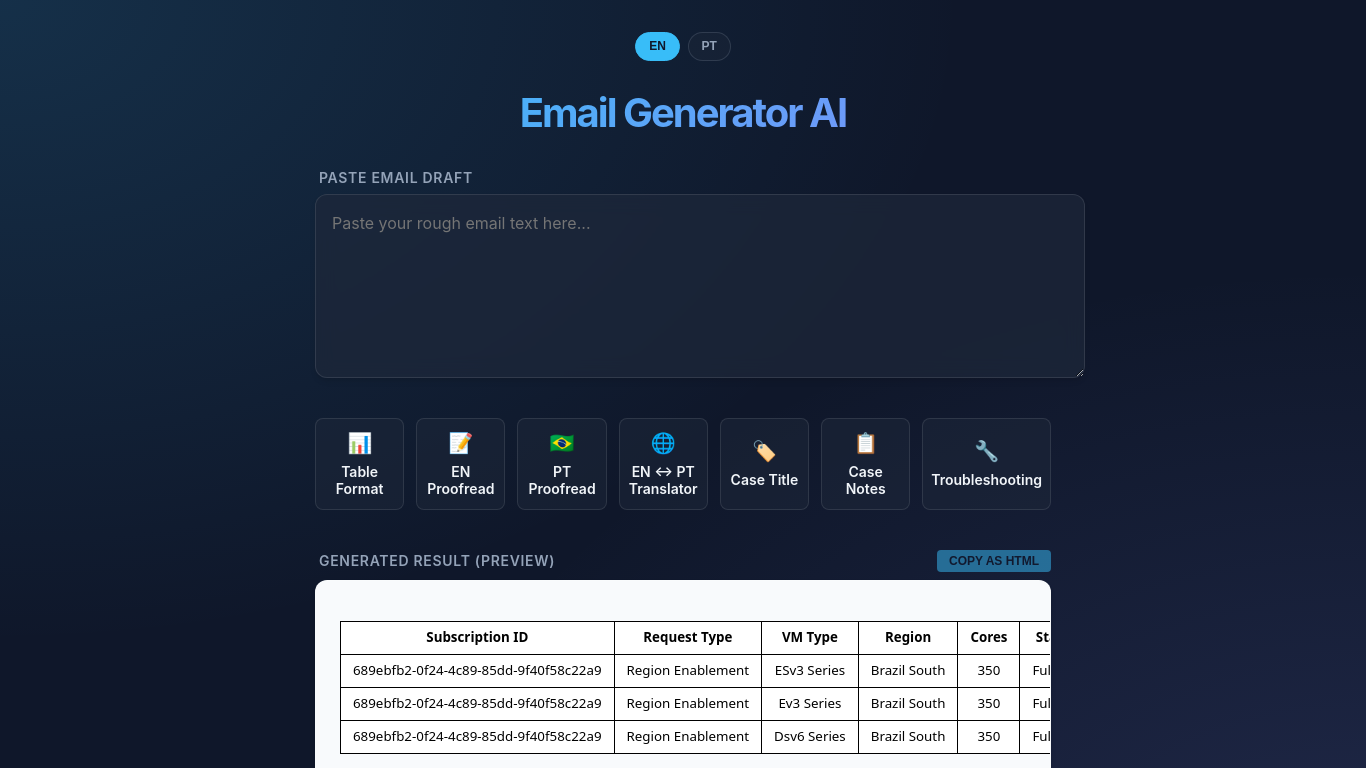
Test: App Component › switches to Portuguese when PT button is clicked
Click the button with aria-label "Trocar para Português" at (709, 46), box [688,32,731,61]
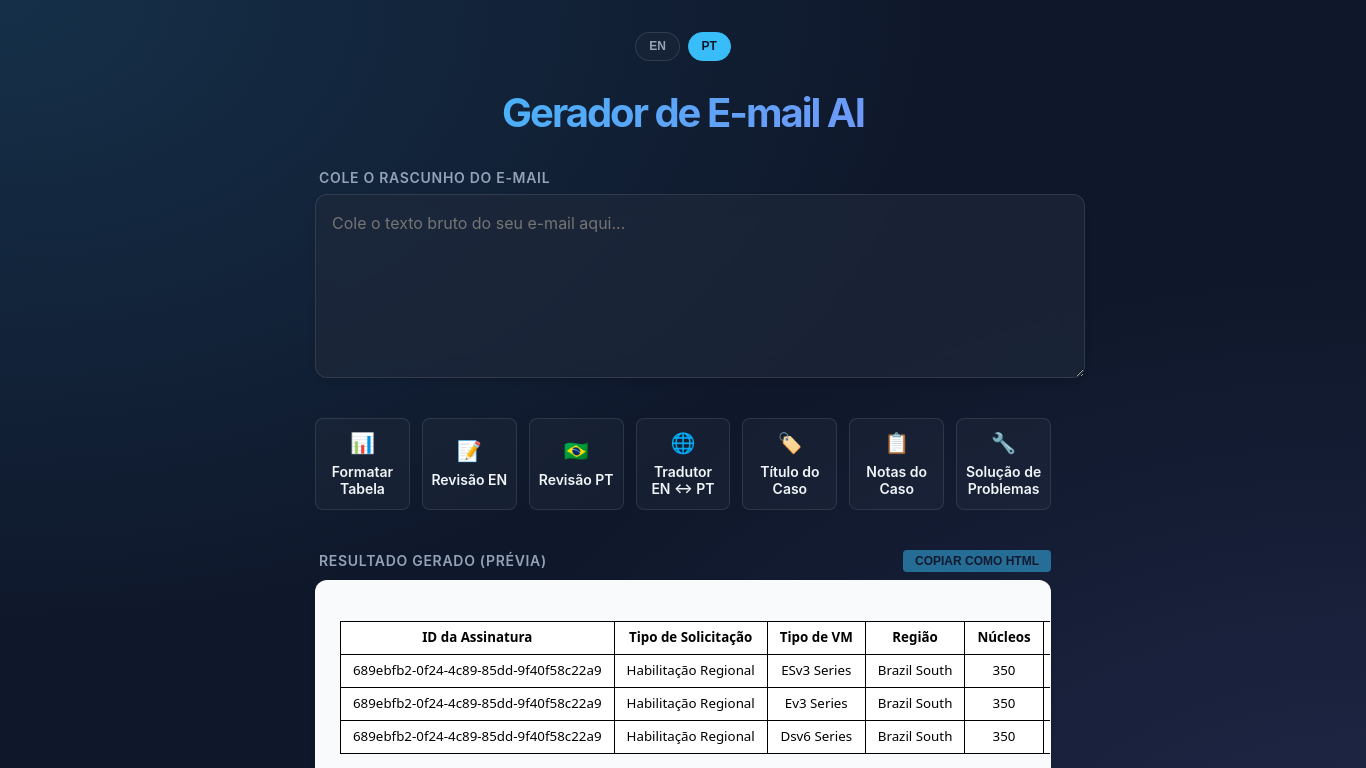
Expected: the heading "Gerador de E-mail AI" is shown, [315,88,1051,137]
